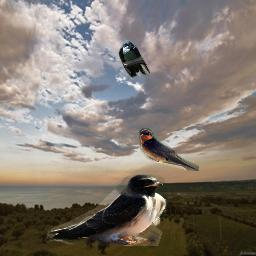Swallow: (46, 174, 167, 246), (139, 128, 199, 171), (118, 40, 151, 80)
